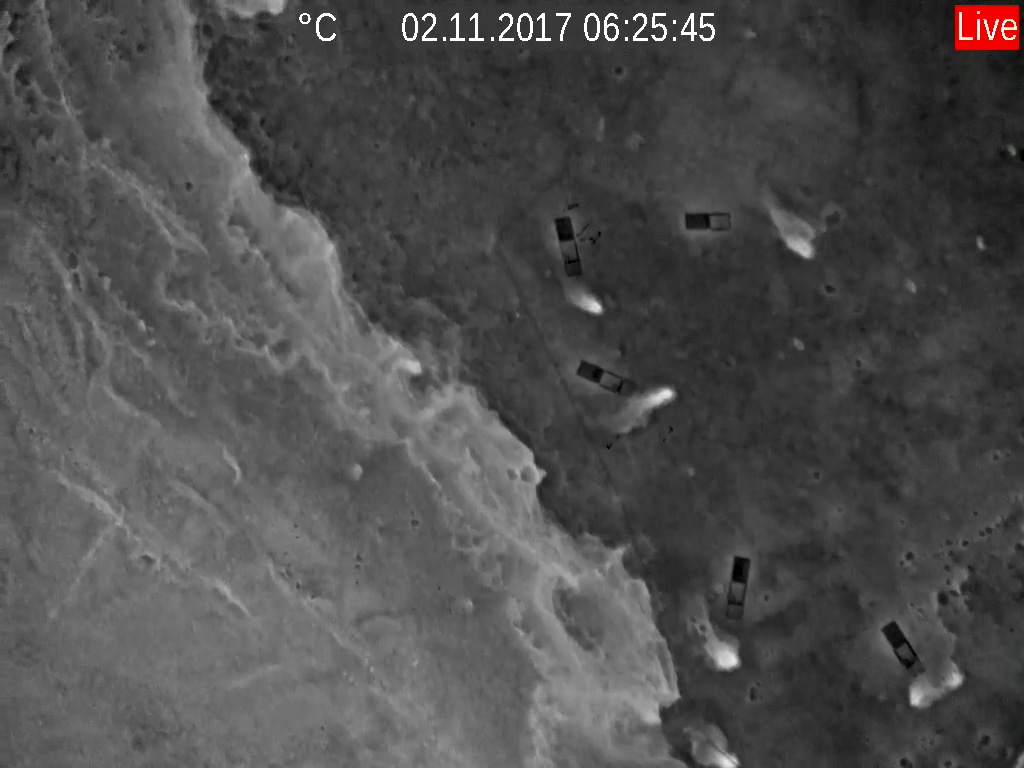warren: (672, 715, 742, 767), (768, 199, 821, 267), (691, 620, 747, 677), (629, 377, 684, 427), (898, 674, 964, 708), (557, 283, 606, 319)
